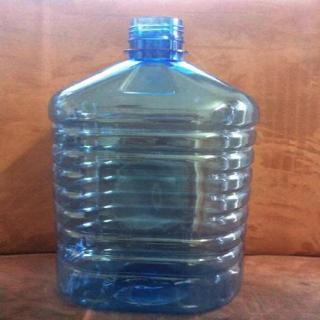Plastic-bottle: (46, 16, 262, 316)
